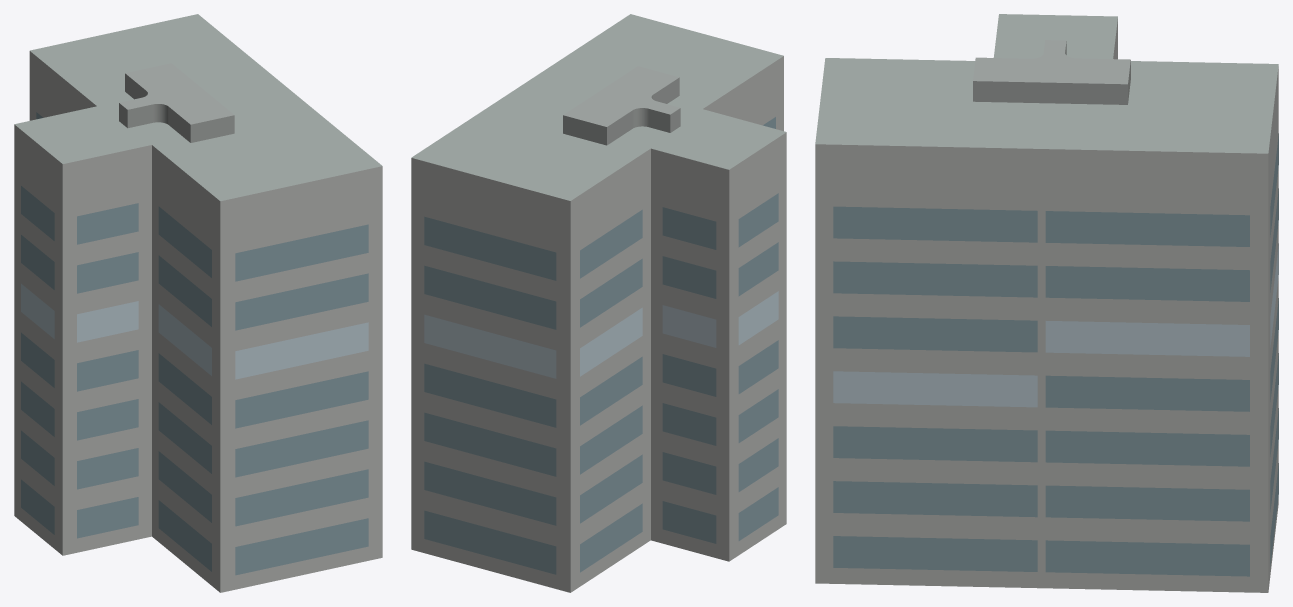
The model's file is fallback-geumho-park-hills-116.glb.
3 views of the same model, side by side, from view 1: azimuth 30°, elevation 25°; view 2: azimuth 150°, elevation 25°; view 3: azimuth 270°, elevation 25° (orthographic). The views are drawn at different scales.
Parts seen in each view (by area): view 1: fallback-geumho-park-hills-116; view 2: fallback-geumho-park-hills-116; view 3: fallback-geumho-park-hills-116.
Boxes of the visible parts, <box> form: fallback-geumho-park-hills-116: <box>14,14,382,592</box>; fallback-geumho-park-hills-116: <box>411,14,786,592</box>; fallback-geumho-park-hills-116: <box>815,14,1278,592</box>.
Size of the model in its own units: 14.99 by 23 by 21.01.
